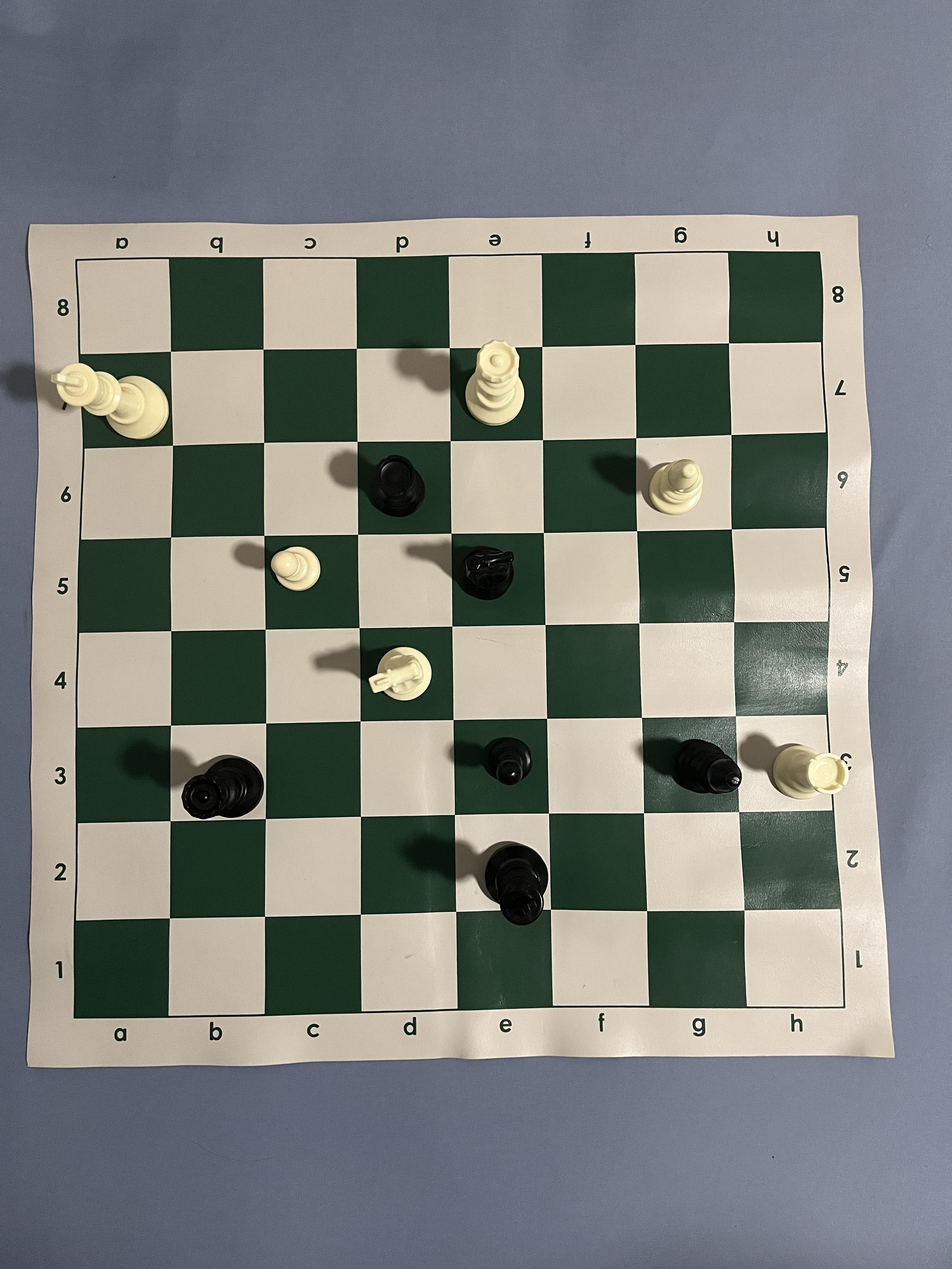black_bishop: (672, 739, 743, 795)
black_king: (483, 841, 550, 927)
black_knight: (457, 545, 515, 601)
black_pawn: (485, 737, 532, 787)
black_queen: (182, 755, 265, 820)
black_rook: (368, 453, 425, 516)
white_bishop: (649, 459, 703, 516)
white_king: (51, 362, 169, 440)
white_knight: (368, 646, 433, 702)
white_pawn: (270, 545, 322, 592)
white_queen: (464, 340, 526, 427)
white_rook: (772, 742, 850, 801)
